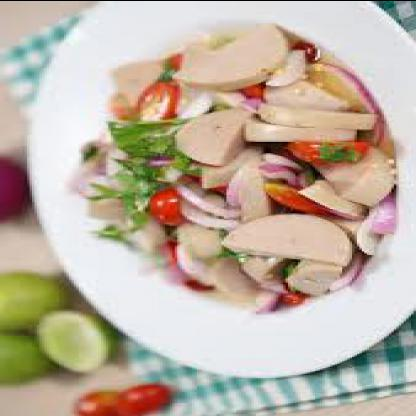Yum: (67, 23, 406, 322)
